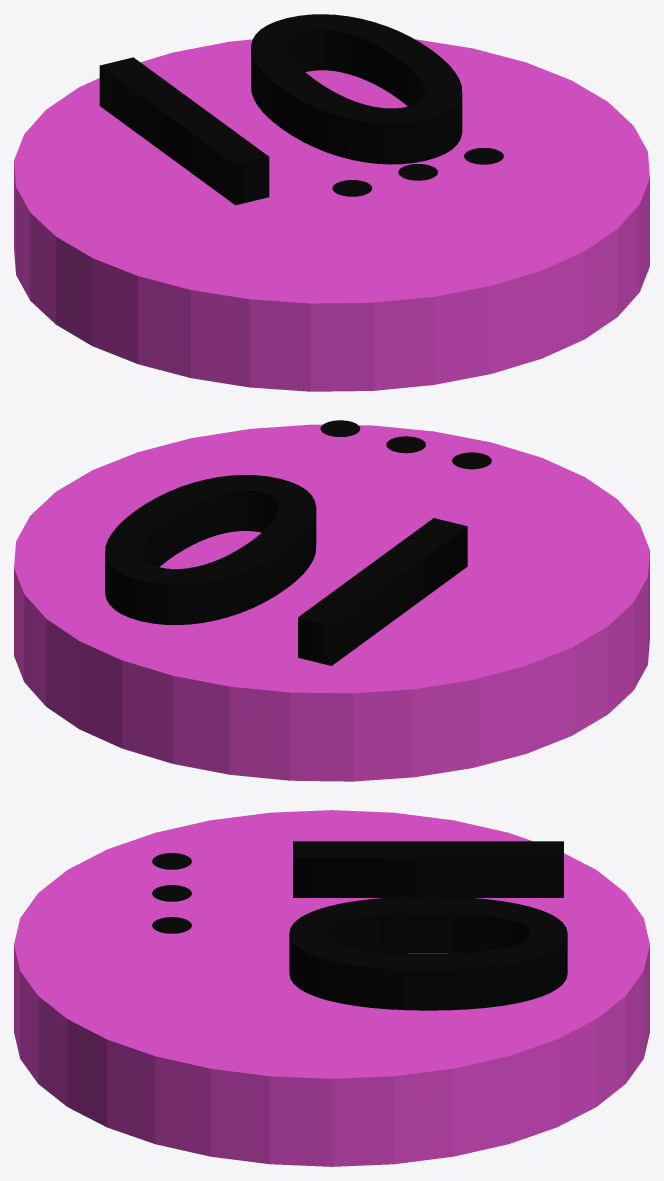
File: ten.fbx
3 renders of one model, top to bottom at view 1: azimuth 30°, elevation 25°; view 2: azimuth 150°, elevation 25°; view 3: azimuth 270°, elevation 25°, orthographic.
Visible parts, largest first — view 1: Circle, Text.001, Circle.001, Circle.008, Circle.007; view 2: Circle, Text.001, Circle.008, Circle.007, Circle.001; view 3: Circle, Text.001, Circle.001, Circle.007, Circle.008.
Boxes of the visible parts, left/top/right/bottom form: Circle: left=14, top=39, right=649, bottom=391; Text.001: left=99, top=14, right=462, bottom=205; Circle.001: left=464, top=148, right=503, bottom=164; Circle.008: left=332, top=180, right=372, bottom=196; Circle.007: left=398, top=164, right=437, bottom=180; Circle: left=14, top=424, right=649, bottom=781; Text.001: left=105, top=475, right=467, bottom=665; Circle.008: left=452, top=452, right=491, bottom=469; Circle.007: left=386, top=436, right=425, bottom=453; Circle.001: left=320, top=420, right=360, bottom=436; Circle: left=14, top=810, right=649, bottom=1166; Text.001: left=289, top=841, right=567, bottom=1010; Circle.001: left=152, top=917, right=191, bottom=933; Circle.007: left=152, top=885, right=191, bottom=901; Circle.008: left=152, top=853, right=191, bottom=869.
Bounding box in the file's own units: 200 × 49.27 × 200.
